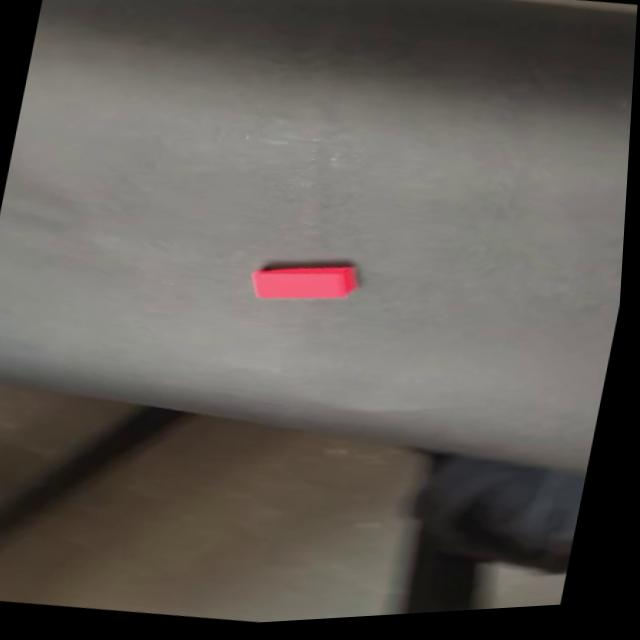red block: (246, 251, 363, 313)
